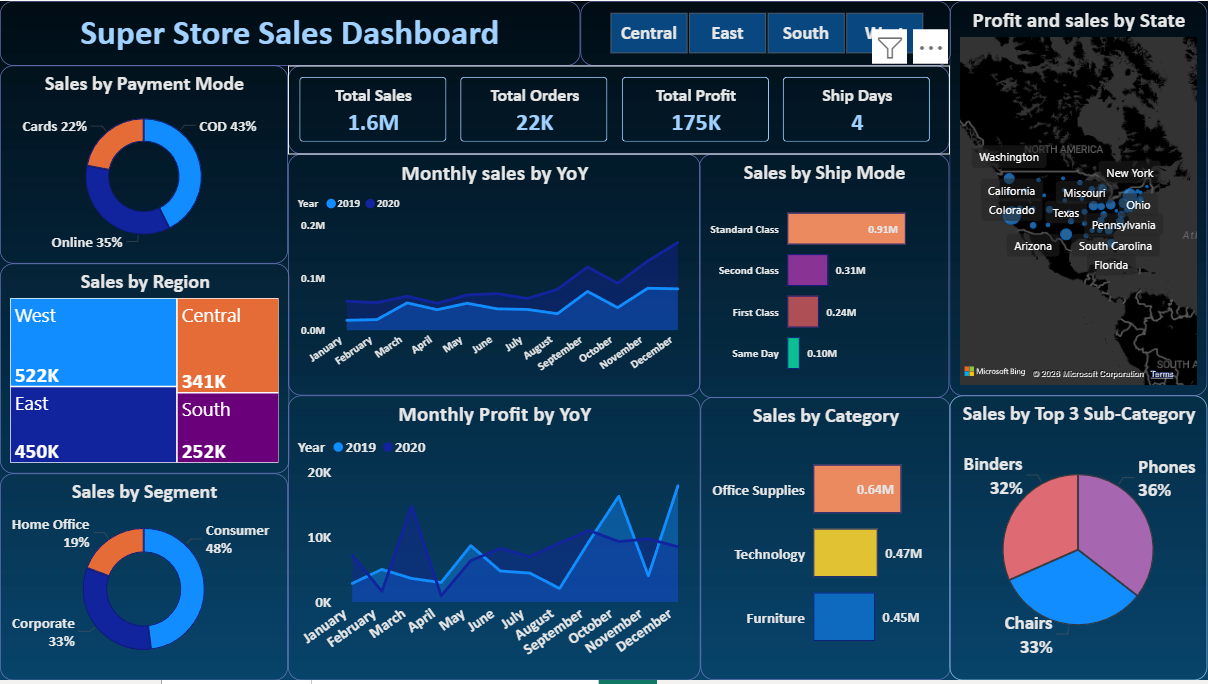

Layout of this report page (visuals, bound fields, positions):
{"tool":"powerbi","page":{"name":"Dashboard","canvas":[1280,720],"ordinal":0},"visuals":[{"type":"clusteredBarChart","title":"Sales by Category","fields":{"Category":["SuperStore Sales Dataset.Category"],"Y":["Sum(SuperStore Sales Dataset.Sales)"]},"box":[743.3,420,265,300],"z":0},{"type":"pieChart","title":"Sales by Top 3 Sub-Category ","fields":{"Category":["SuperStore Sales Dataset.Sub-Category"],"Y":["Sum(SuperStore Sales Dataset.Sales)"]},"box":[1006.7,418.3,273.3,301.7],"z":1000},{"type":"clusteredBarChart","title":"Sales by Ship Mode","fields":{"Y":["Sum(SuperStore Sales Dataset.Sales)"],"Category":["SuperStore Sales Dataset.Ship Mode"]},"box":[741.7,161.7,265,258.3],"z":2000},{"type":"areaChart","title":"Monthly sales by YoY","fields":{"Y":["Sum(SuperStore Sales Dataset.Sales)"],"Category":["SuperStore Sales Dataset.Order Date.Variation.Date Hierarchy.Month","SuperStore Sales Dataset.Order Date.Variation.Date Hierarchy.Day"],"Series":["SuperStore Sales Dataset.Order Date.Variation.Date Hierarchy.Year"]},"box":[305.4,162.2,437.4,256.1],"z":3000},{"type":"areaChart","title":"Monthly Profit by YoY","fields":{"Category":["SuperStore Sales Dataset.Order Date.Variation.Date Hierarchy.Month","SuperStore Sales Dataset.Order Date.Variation.Date Hierarchy.Day"],"Series":["SuperStore Sales Dataset.Order Date.Variation.Date Hierarchy.Year"],"Y":["Sum(SuperStore Sales Dataset.Profit)"]},"box":[305.4,418.3,437.4,302.2],"z":4000},{"type":"map","title":"Profit and sales by State","fields":{"Category":["SuperStore Sales Dataset.State"],"Size":["Sum(SuperStore Sales Dataset.Sales)"]},"box":[1006.7,0,273.3,418.3],"z":5000},{"type":"donutChart","title":"Sales by Payment Mode","fields":{"Y":["Sum(SuperStore Sales Dataset.Sales)"],"Category":["SuperStore Sales Dataset.Payment Mode"]},"box":[0,68.4,305.4,210],"z":6000},{"type":"treemap","title":"Sales by Region","fields":{"Group":["SuperStore Sales Dataset.Region"],"Values":["Sum(SuperStore Sales Dataset.Sales)"]},"box":[0,278.4,307,222.7],"z":7000},{"type":"donutChart","title":"Sales by Segment","fields":{"Y":["Sum(SuperStore Sales Dataset.Sales)"],"Category":["SuperStore Sales Dataset.Segment"]},"box":[0,501,305.4,219.5],"z":8000},{"type":"slicer","fields":{"Values":["SuperStore Sales Dataset.Region"]},"box":[615.6,0,392.9,68.4],"z":9000},{"type":"textbox","box":[0,0,615.6,68.4],"z":10000},{"type":"cardVisual","fields":{"Data":["Sum(SuperStore Sales Dataset.Sales)","Sum(SuperStore Sales Dataset.Quantity)","Sum(SuperStore Sales Dataset.Profit)","Avg(SuperStore Sales Dataset.No.of days for Delivery)"]},"box":[305.4,68.4,701.5,93.8],"z":11000}]}

Visuals, with their boxes in screenshot pixels (x1, y1, x2, y2), scaled from the page's 1280x720 canvas onto the 1208x684 screenshot:
"Sales by Category" clusteredBarChart: region(701, 399, 952, 683)
"Sales by Top 3 Sub-Category " pieChart: region(950, 397, 1207, 683)
"Sales by Ship Mode" clusteredBarChart: region(700, 154, 950, 399)
"Monthly sales by YoY" areaChart: region(288, 154, 701, 397)
"Monthly Profit by YoY" areaChart: region(288, 397, 701, 683)
"Profit and sales by State" map: region(950, 0, 1207, 397)
"Sales by Payment Mode" donutChart: region(0, 65, 288, 264)
"Sales by Region" treemap: region(0, 264, 290, 476)
"Sales by Segment" donutChart: region(0, 476, 288, 683)
slicer - SuperStore Sales Dataset.Region: region(581, 0, 952, 65)
textbox: region(0, 0, 581, 65)
cardVisual - Sum(SuperStore Sales Dataset.Sales) x Sum(SuperStore Sales Dataset.Quantity): region(288, 65, 950, 154)
